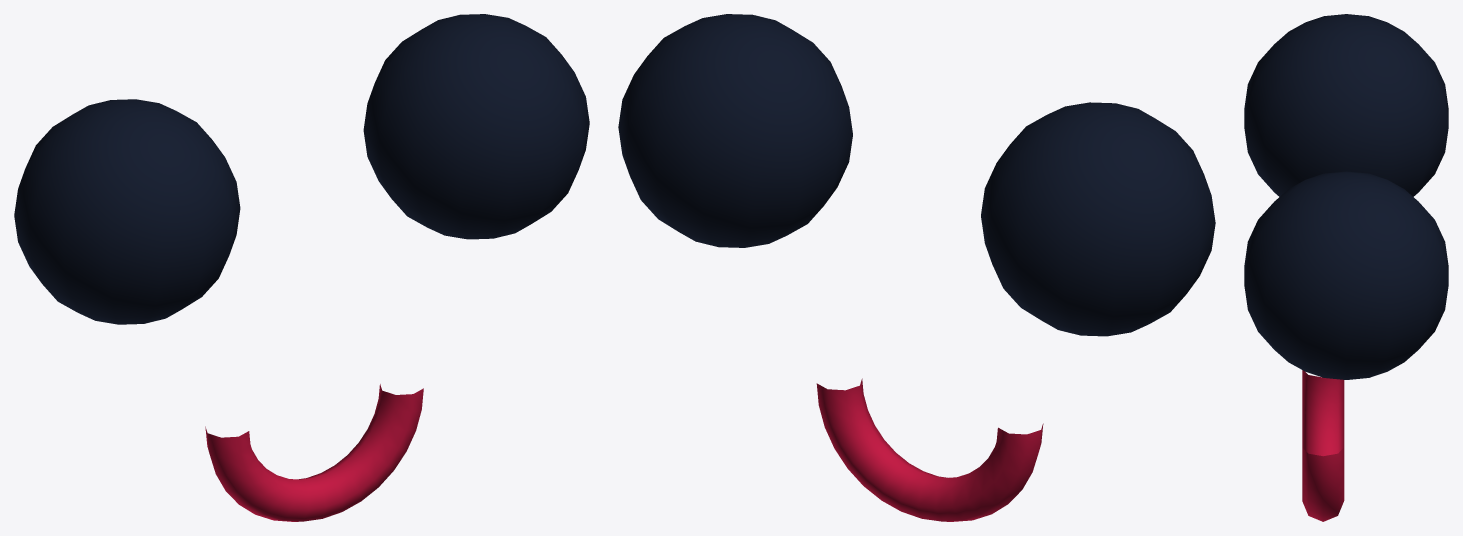
The model's file is round.glb.
3 renders of one model, left to right at view 1: azimuth 30°, elevation 25°; view 2: azimuth 150°, elevation 25°; view 3: azimuth 270°, elevation 25°, orthographic. The views are drawn at different scales.
Bounding box in the file's own units: 5 × 3.88 × 1.75.
